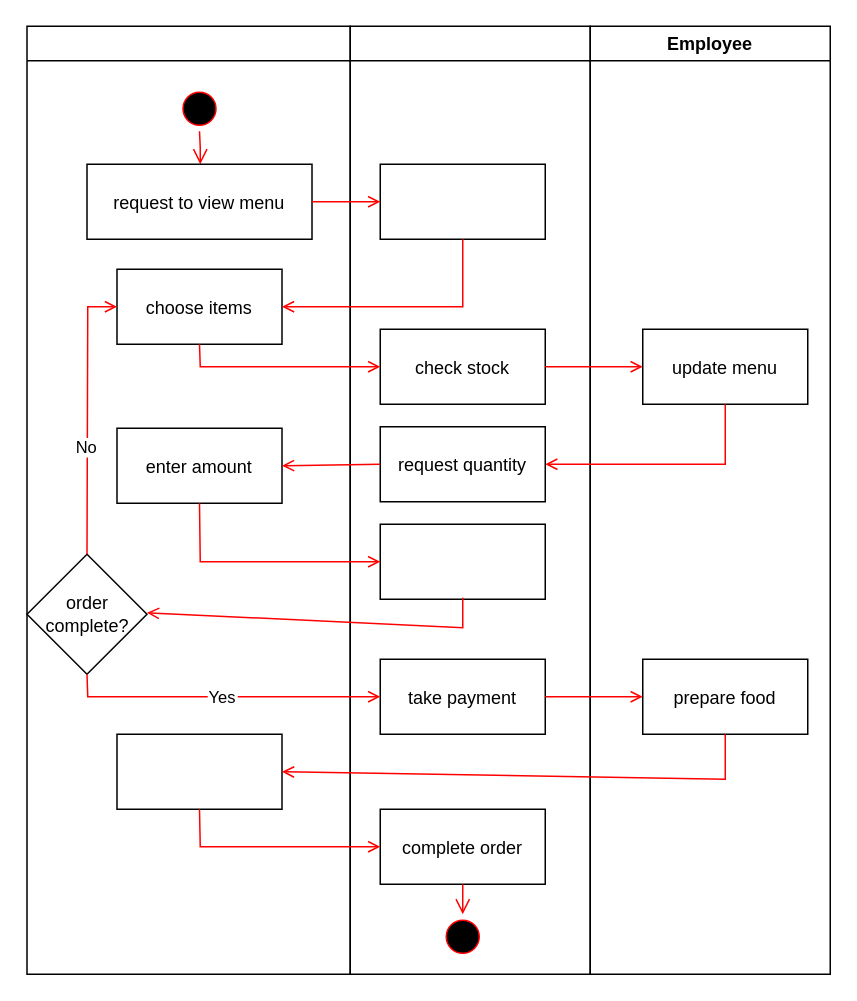
The diagram is 857 pixels wide and 1001 high, and some of its shapes have lost their labels. The box of each missing label's shape, as (x1, y1, x2, y2) in pixels:
Customer: (26, 25, 350, 974)
display menu items: (379, 163, 545, 239)
Ordering System: (349, 25, 590, 974)
receieve order: (116, 733, 282, 809)
update order: (379, 523, 545, 599)
